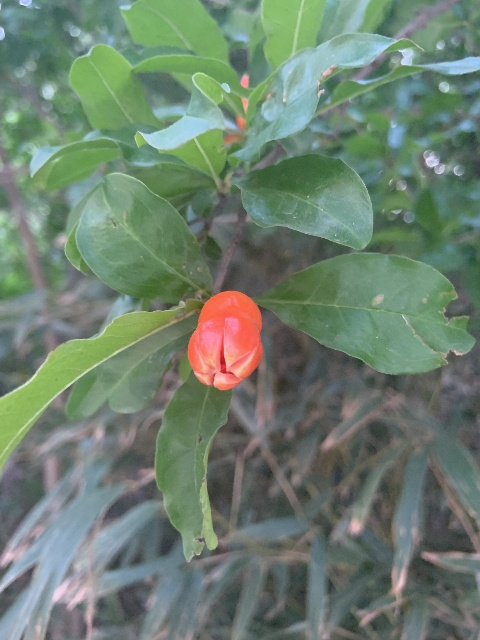bud: (188, 289, 263, 390)
